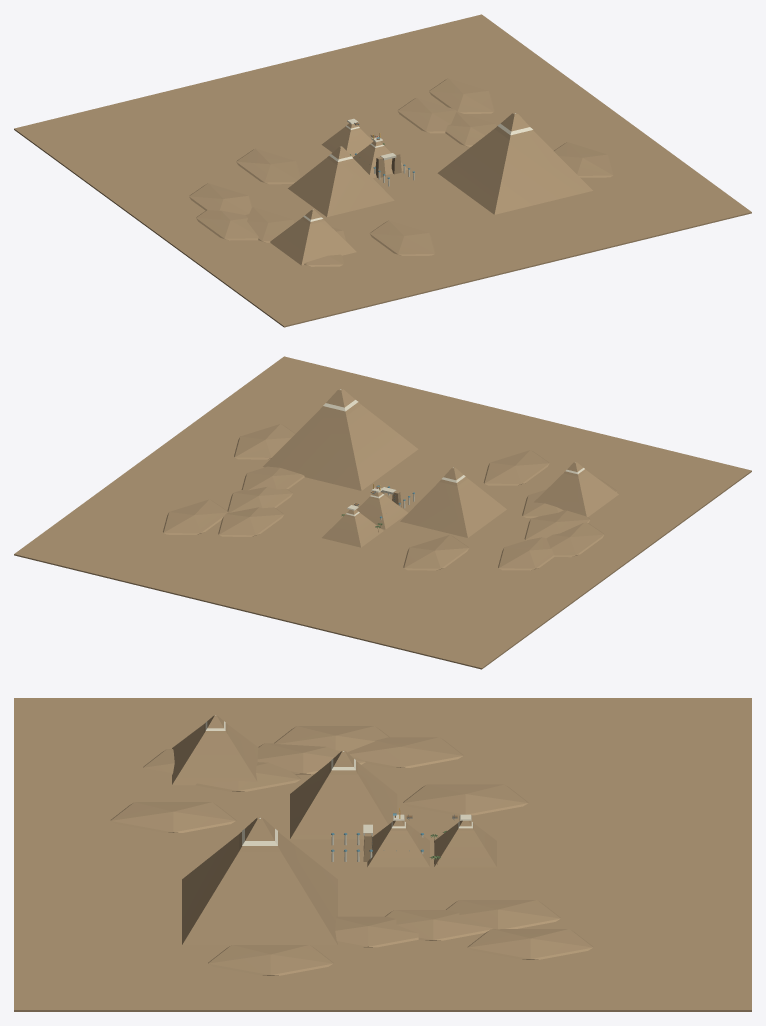
The model's file is pyramids-m6AgYg4W.glb.
3 views of the same model, one above another, from view 1: azimuth 30°, elevation 25°; view 2: azimuth 150°, elevation 25°; view 3: azimuth 270°, elevation 25° (orthographic). The views are drawn at different scales.
Parts seen in each view (by area): view 1: Rebuilt_pyramids_Paint_sand.002, Rebuilt_pyramids_Paint_ivory.002; view 2: Rebuilt_pyramids_Paint_sand.002, Rebuilt_pyramids_Paint_ivory.002; view 3: Rebuilt_pyramids_Paint_sand.002, Rebuilt_pyramids_Paint_ivory.002.
Part boxes in pixels (bbox=[...]): Rebuilt_pyramids_Paint_sand.002: bbox=[14, 14, 751, 327]; Rebuilt_pyramids_Paint_ivory.002: bbox=[303, 113, 532, 221]; Rebuilt_pyramids_Paint_sand.002: bbox=[14, 356, 751, 669]; Rebuilt_pyramids_Paint_ivory.002: bbox=[323, 389, 584, 519]; Rebuilt_pyramids_Paint_sand.002: bbox=[14, 698, 751, 1011]; Rebuilt_pyramids_Paint_ivory.002: bbox=[205, 715, 472, 861].
Bounding box in the file's own units: 750 × 116 × 750.
